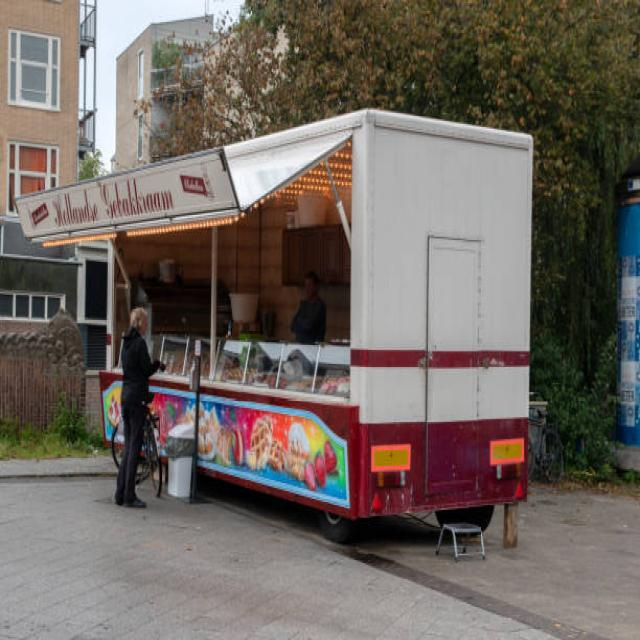Emperan: (4, 93, 547, 552)
